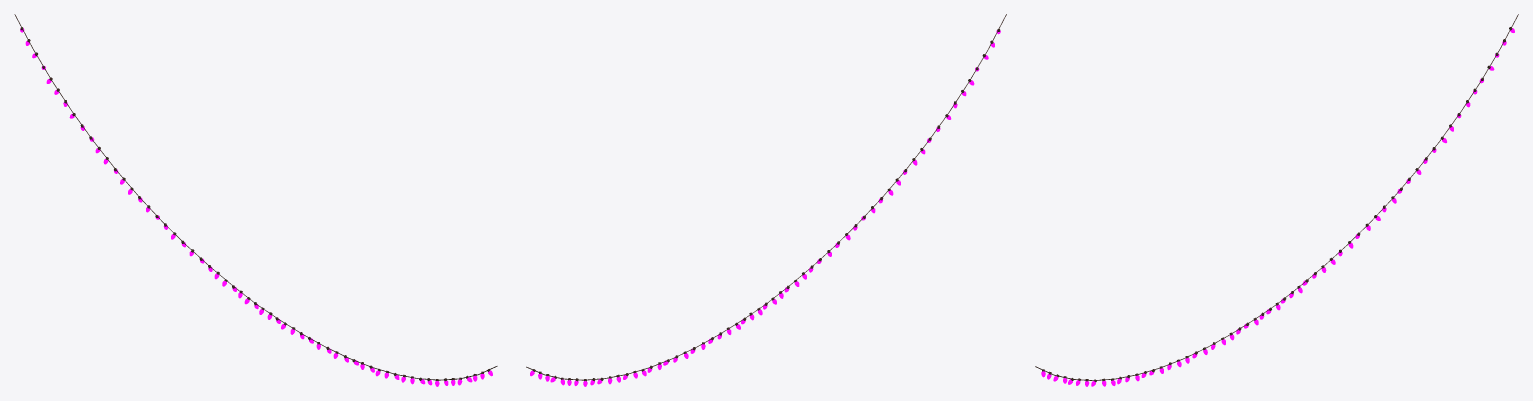
File: LVR_RingLights.fbx
3 views of the same model, side by side, from view 1: azimuth 30°, elevation 25°; view 2: azimuth 150°, elevation 25°; view 3: azimuth 330°, elevation 25° (orthographic).
Visible parts, largest first — view 1: Ring Lights; view 2: Ring Lights; view 3: Ring Lights.
Part boxes in pixels (x1,y1,x2,y2): Ring Lights: (14, 14, 497, 386); Ring Lights: (526, 14, 1006, 386); Ring Lights: (1035, 14, 1518, 386).
Bounding box in the file's own units: 6.5 × 97.16 × 705.
